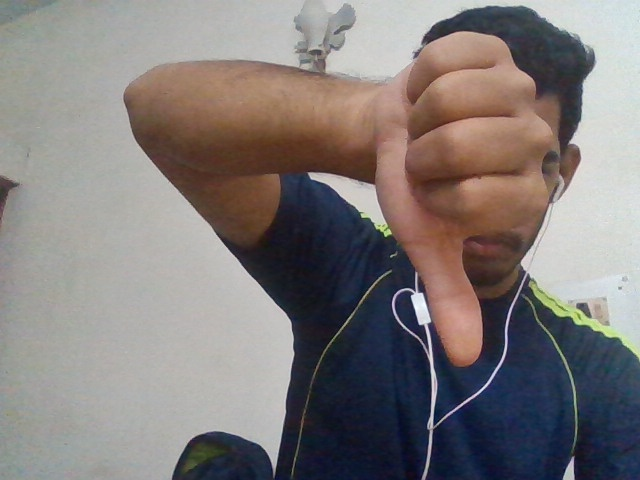no: (348, 41, 550, 370)
